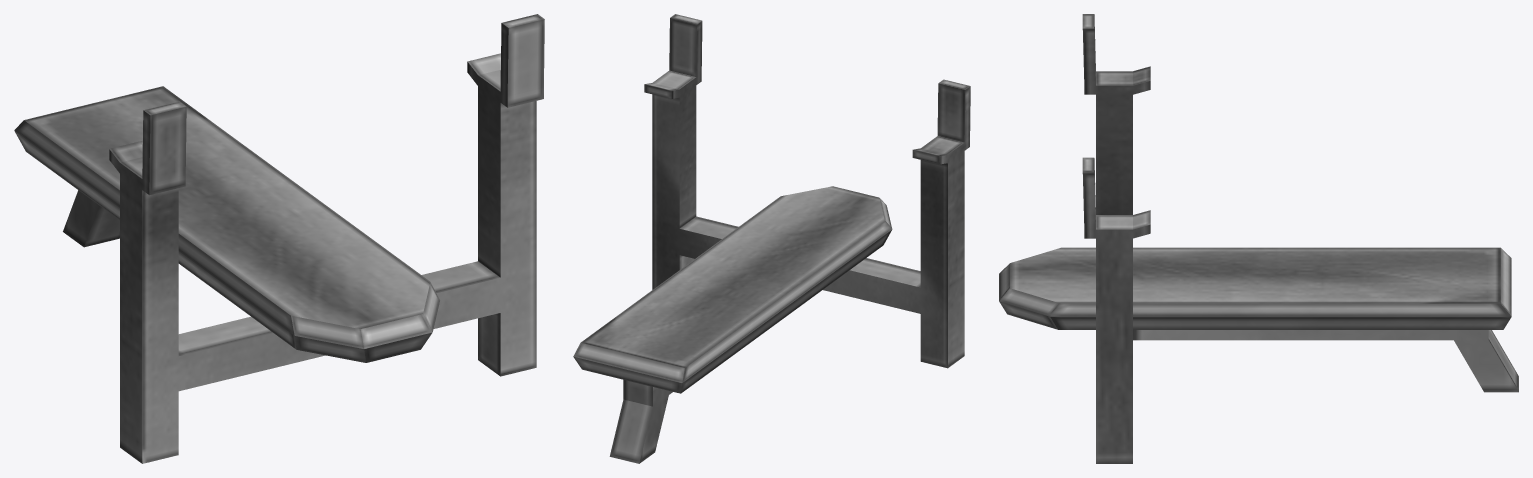
The model's file is SM_SYD_WeightMachine.fbx.
3 renders of one model, left to right at view 1: azimuth 30°, elevation 25°; view 2: azimuth 150°, elevation 25°; view 3: azimuth 270°, elevation 25°, orthographic. The views are drawn at different scales.
Parts seen in each view (by area): view 1: SM_SYD_WeightMachine; view 2: SM_SYD_WeightMachine; view 3: SM_SYD_WeightMachine.
Part boxes in pixels (x1,y1,x2,y2): SM_SYD_WeightMachine: (14,14,544,463); SM_SYD_WeightMachine: (573,14,970,463); SM_SYD_WeightMachine: (999,14,1518,463).
Size of the model in its own units: 146 by 125 by 202.
